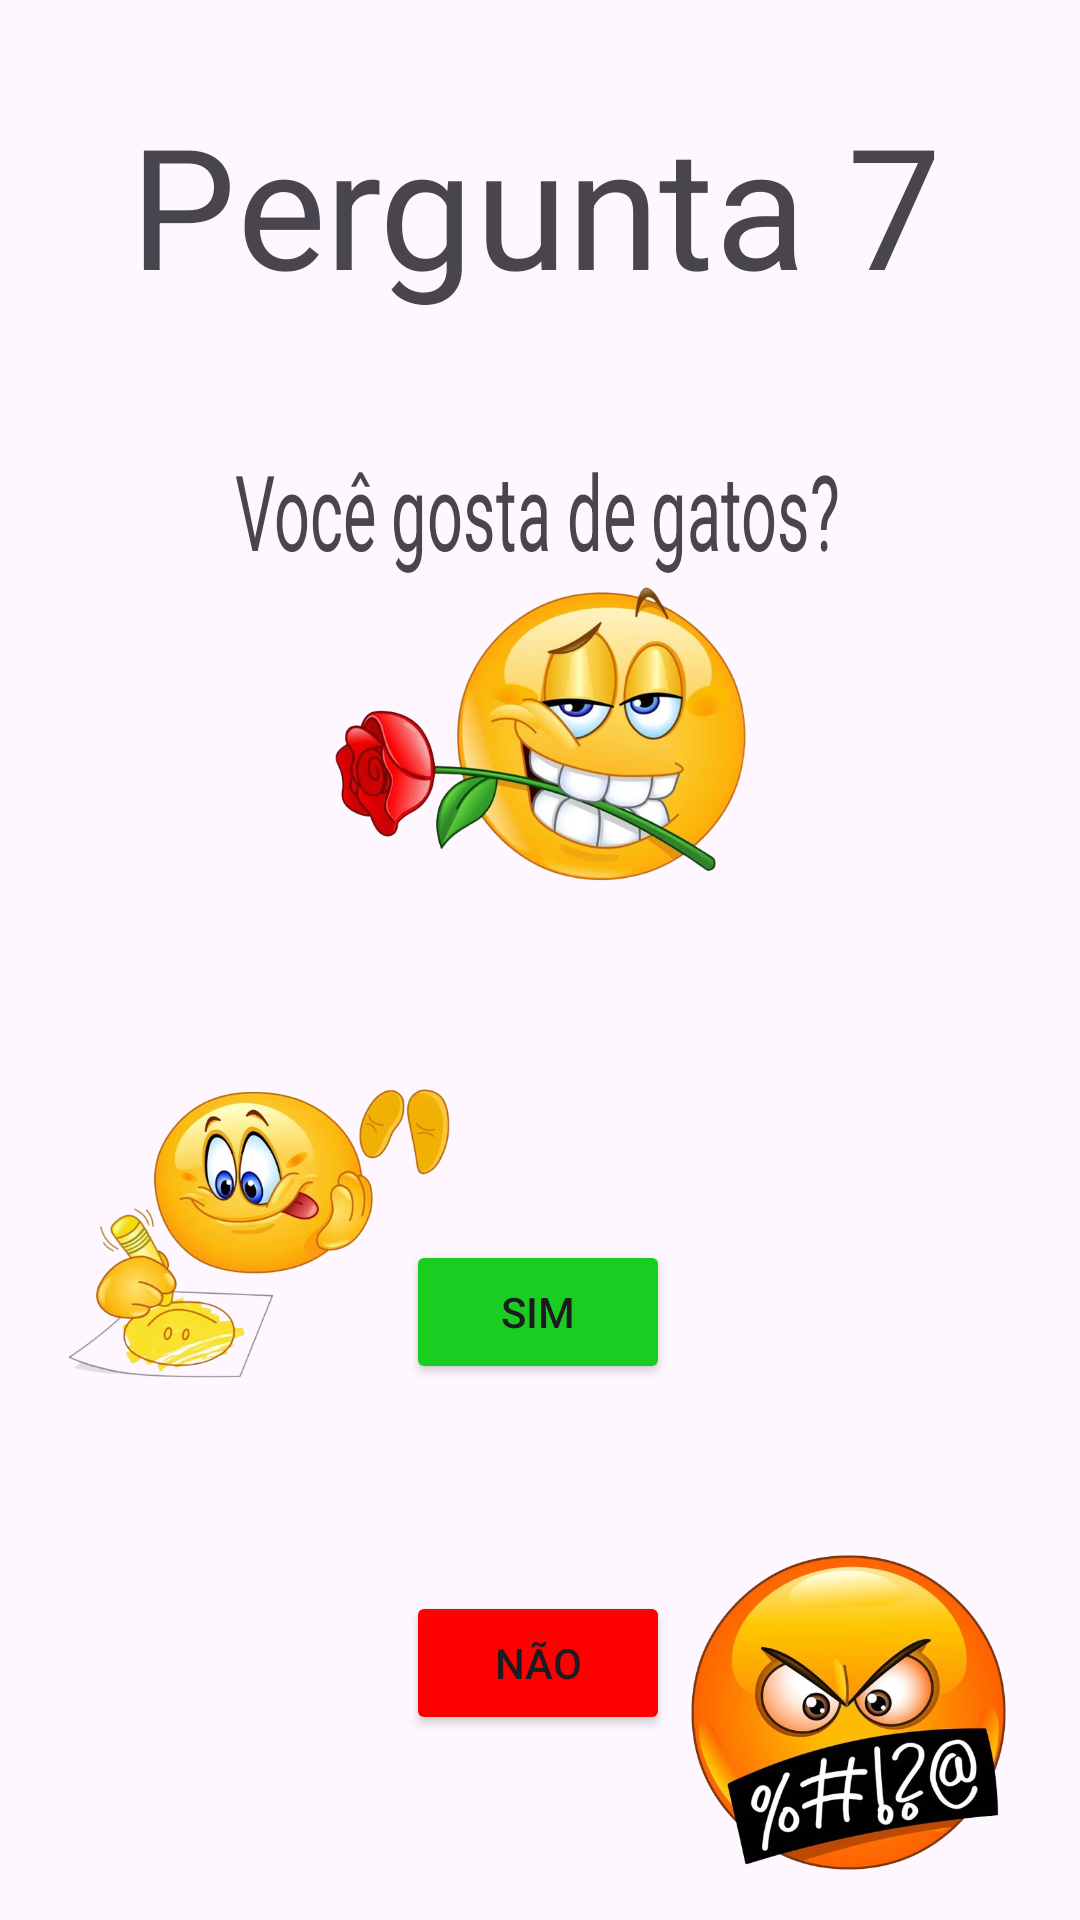

Screen size 1080 × 1920. Icon name, then its box in pixels as bbox=[x1, y1, x2, y2]:
palavrao: bbox=[691, 1555, 1006, 1870]
